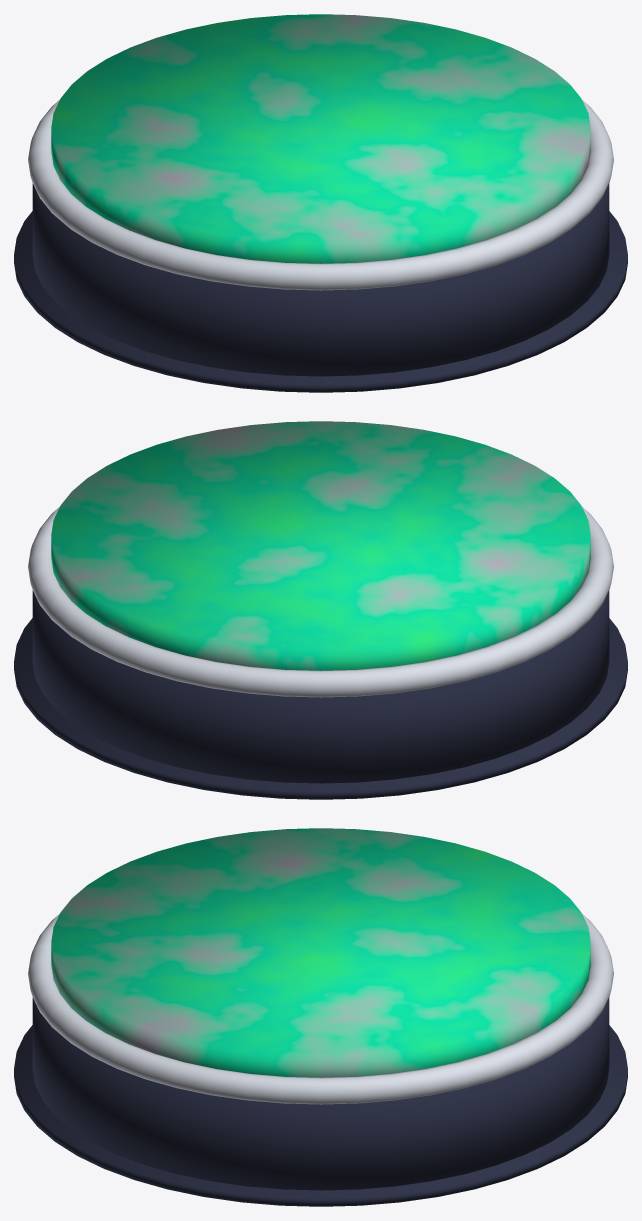
Rendered from SM_Pedestal_Viral.fbx.
3 renders of one model, top to bottom at view 1: azimuth 30°, elevation 25°; view 2: azimuth 150°, elevation 25°; view 3: azimuth 270°, elevation 25°, orthographic.
Parts seen in each view (by area): view 1: SM_Pedestal_Viral; view 2: SM_Pedestal_Viral; view 3: SM_Pedestal_Viral.
Boxes of the visible parts, x1,y1,x2,y2 form: SM_Pedestal_Viral: (14,14,627,392); SM_Pedestal_Viral: (14,421,627,799); SM_Pedestal_Viral: (14,828,627,1206).
Size of what is drawn, in the model's own units: 1.32 by 0.32 by 1.32.
1 material, 1 textured.
